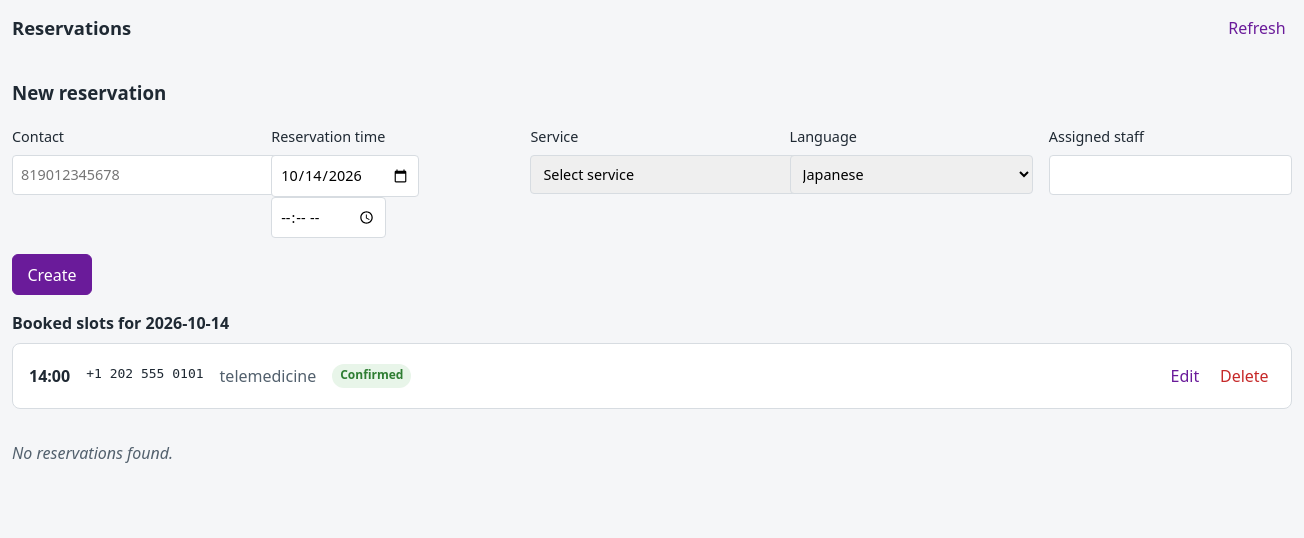
it: ReservationsPanel: 削除後に予約済みスロットが更新される › キャンセルが 403 などの失敗なら HTTP ステータスを添えて表示する
Click the button "Delete" at [1244, 376], box [1214,360,1275,392]
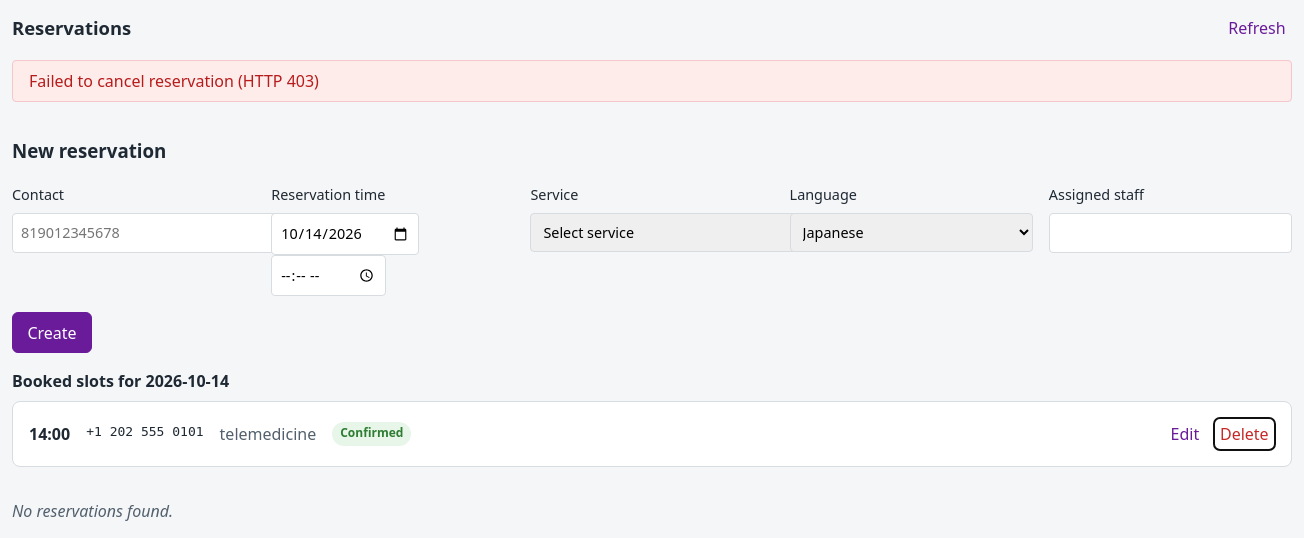
Expected: the message shows "403", [29,70,319,92]
